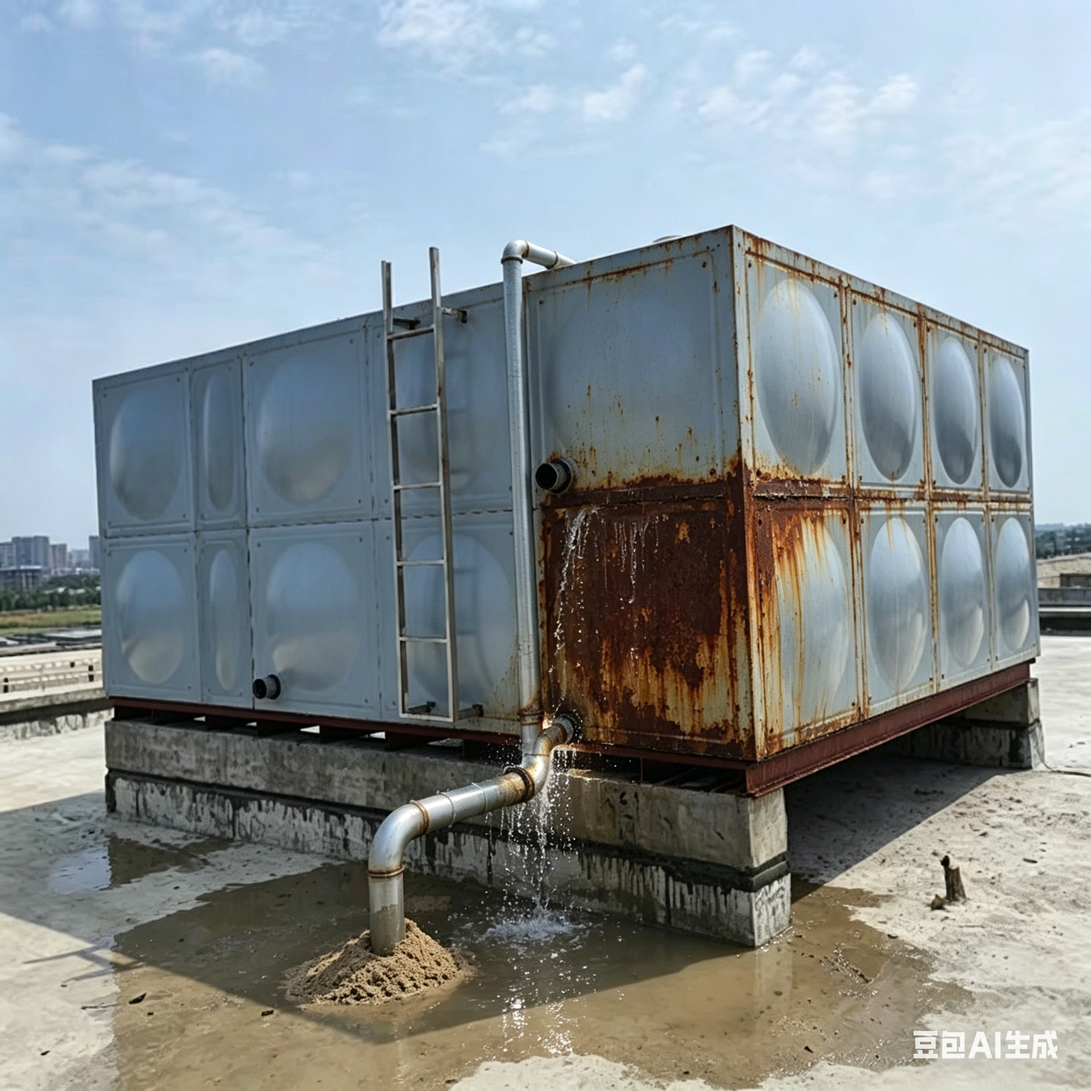Leakage: (503, 493, 672, 1051), (110, 935, 485, 1091), (698, 906, 969, 1091), (22, 796, 197, 894), (247, 874, 483, 931)
